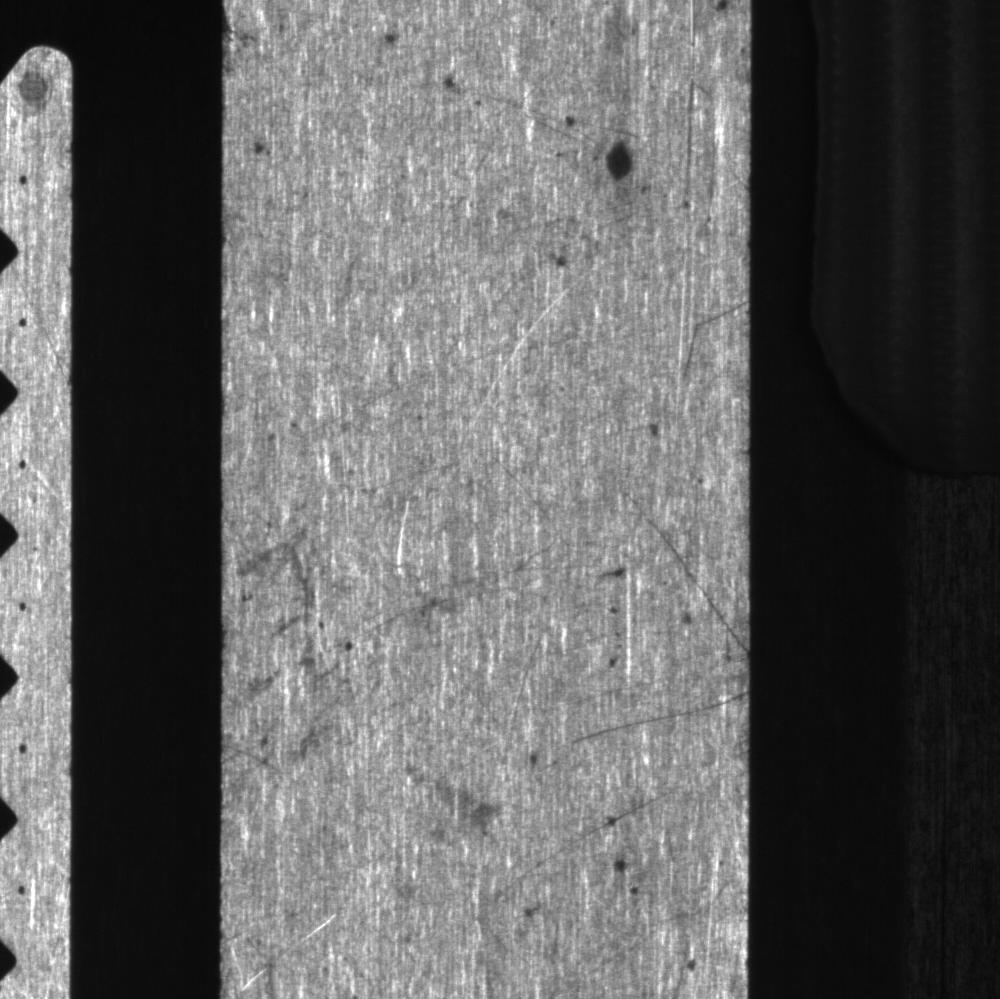Discolor: (9, 52, 68, 124)
Etching: (234, 530, 361, 709), (608, 115, 662, 212), (223, 2, 274, 89), (367, 12, 428, 69), (237, 122, 289, 176), (611, 858, 653, 906)
Scar: (488, 773, 726, 912), (621, 483, 749, 675), (464, 269, 567, 428), (554, 680, 746, 761), (220, 893, 365, 997), (458, 60, 602, 162), (478, 438, 585, 565), (666, 1, 720, 229), (485, 609, 559, 768), (667, 276, 749, 404), (318, 357, 446, 429), (351, 444, 468, 510), (221, 726, 296, 795)
